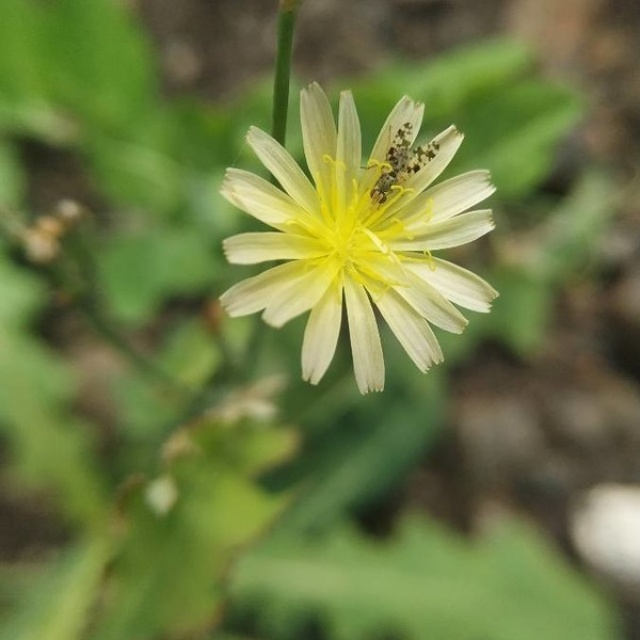obstacle: (214, 73, 495, 413)
